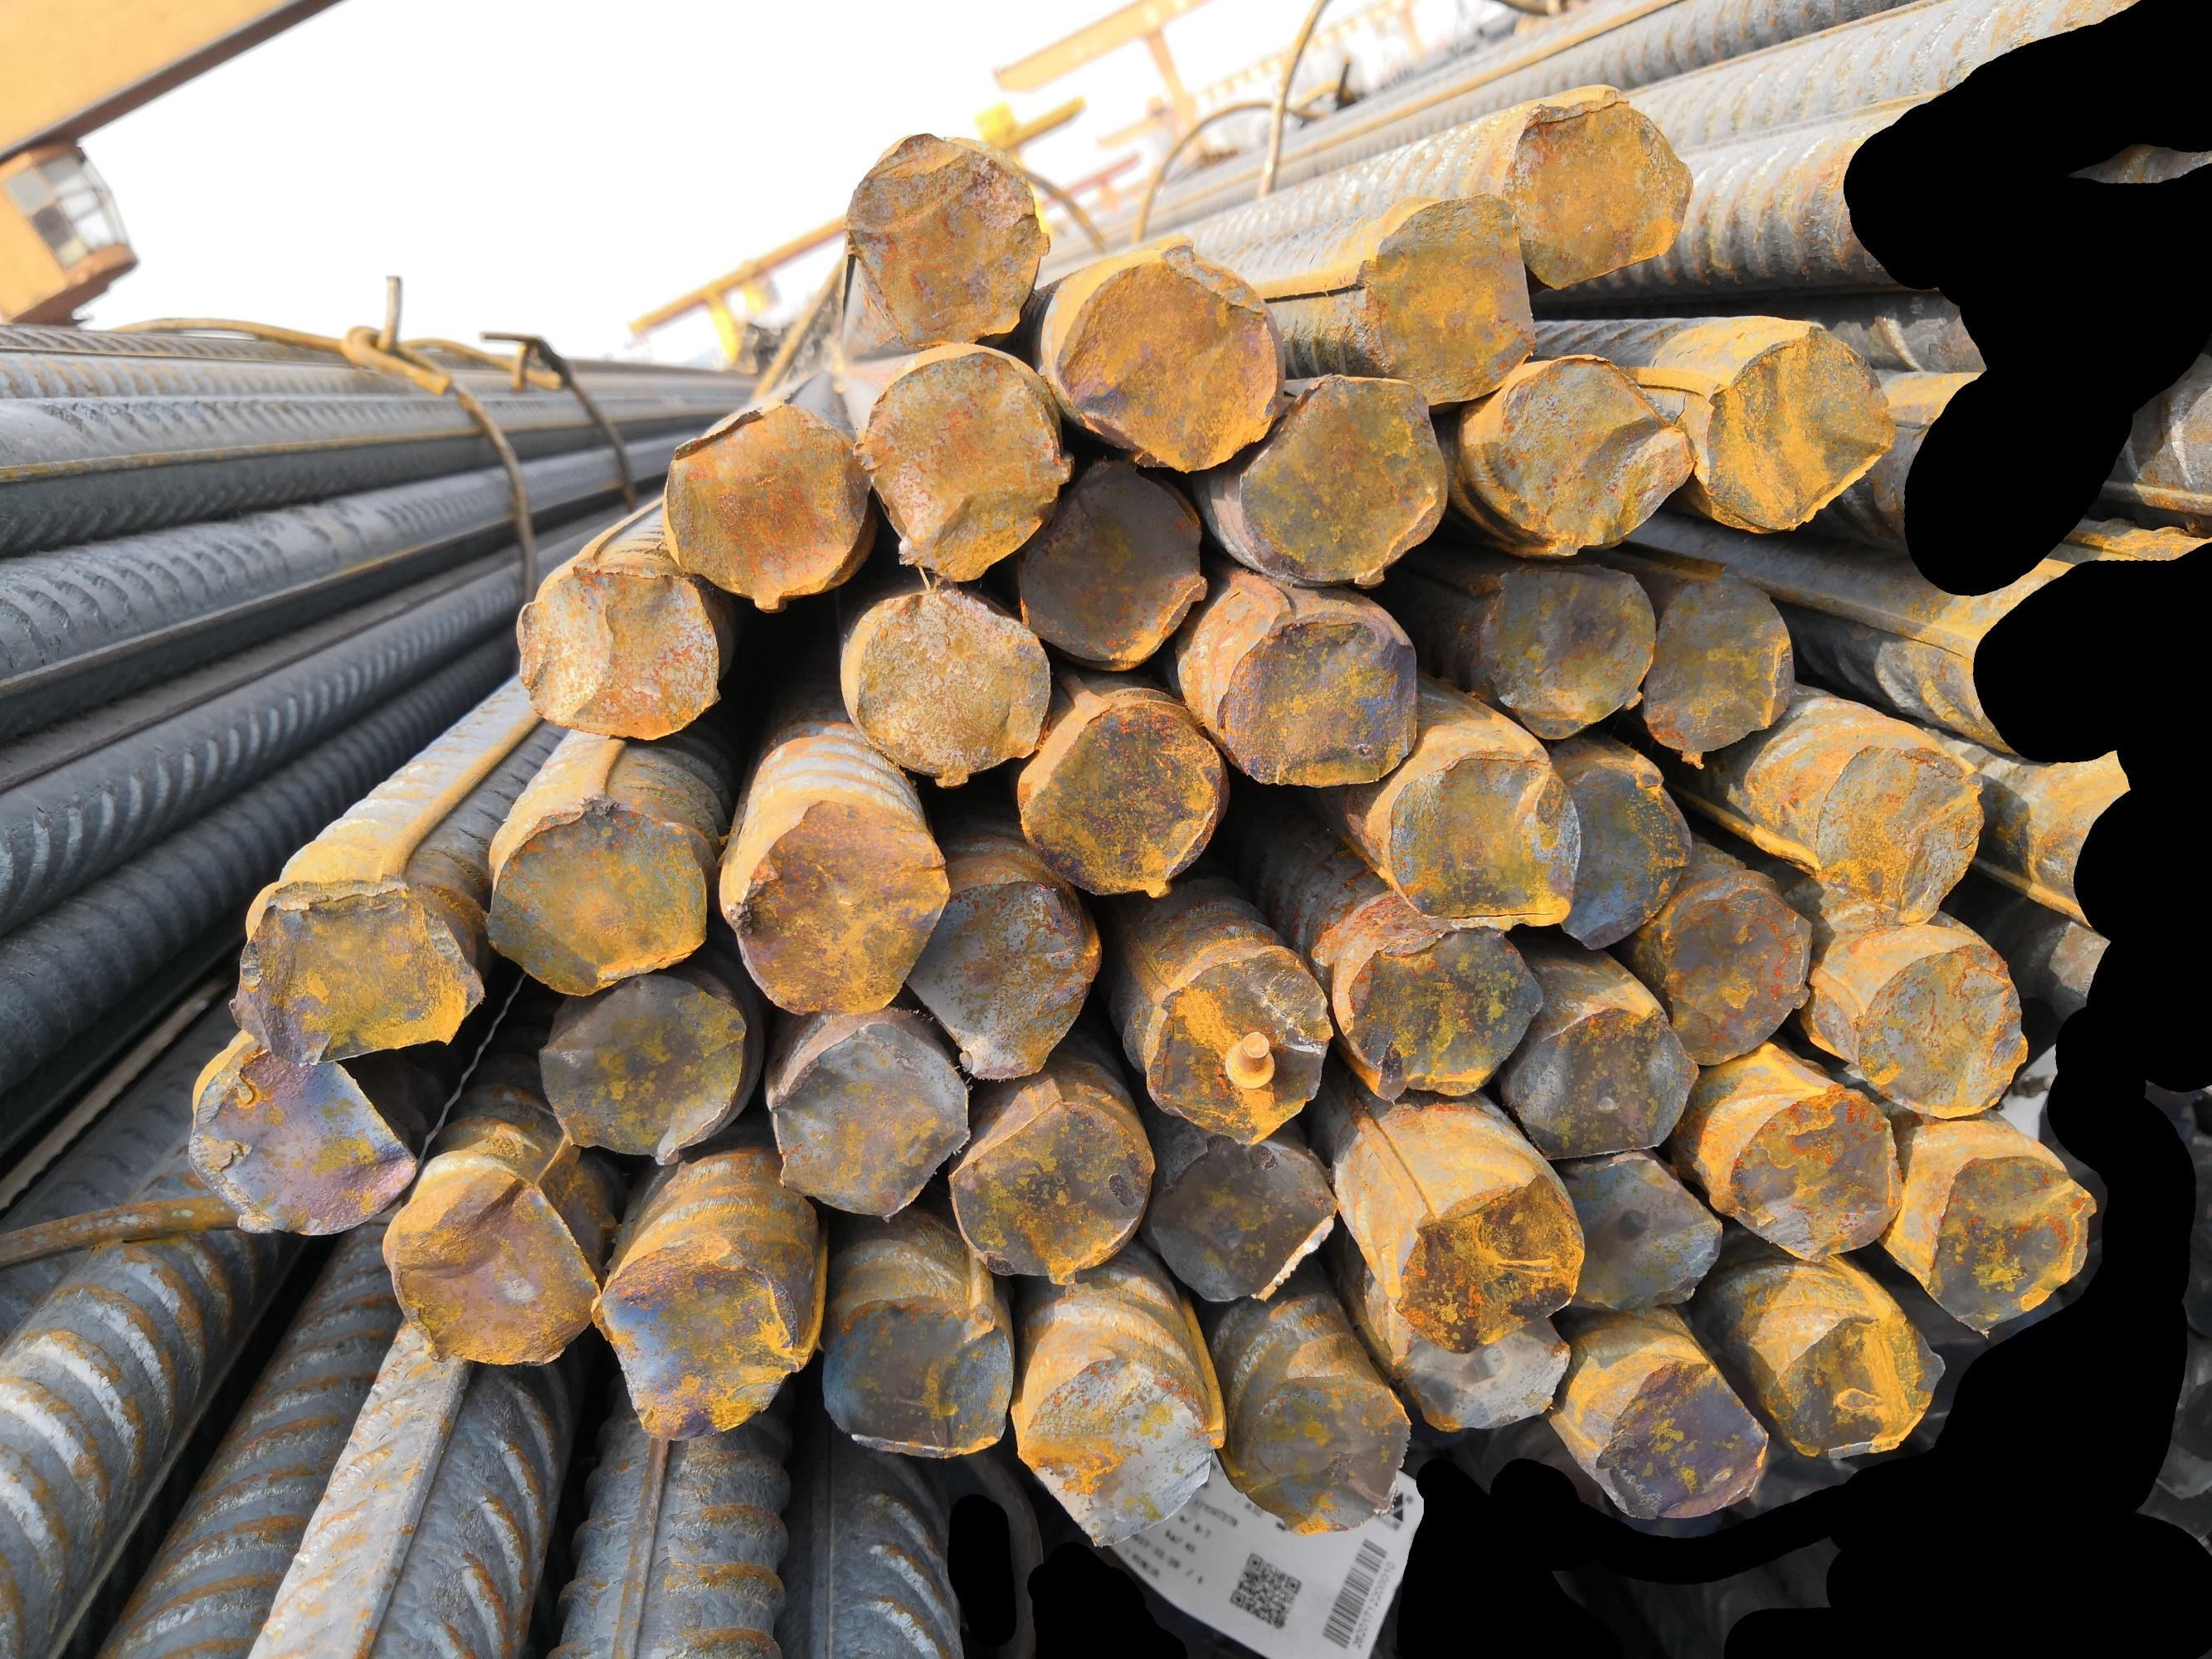bar: (1053, 237, 1290, 477), (720, 789, 950, 1021), (858, 345, 1074, 582), (225, 866, 488, 1060), (483, 784, 713, 999), (1232, 366, 1450, 591), (183, 1040, 418, 1243), (655, 396, 870, 617), (842, 125, 1051, 349), (380, 1161, 600, 1371), (1696, 312, 1902, 537), (833, 584, 1056, 789), (589, 1244, 814, 1443), (1018, 694, 1227, 906), (1489, 347, 1698, 559), (1011, 1342, 1227, 1547), (530, 967, 753, 1166), (903, 873, 1103, 1086), (943, 1093, 1156, 1291), (763, 1023, 969, 1223), (1013, 457, 1203, 673), (1501, 82, 1696, 291), (509, 558, 723, 746), (1356, 190, 1539, 406), (1217, 598, 1419, 793), (1381, 739, 1583, 932), (1140, 943, 1332, 1143), (1335, 932, 1548, 1112), (1388, 1166, 1586, 1354), (1806, 735, 1991, 932), (1713, 1079, 1907, 1265), (1921, 1140, 2099, 1342), (1846, 934, 2032, 1124), (1143, 1133, 1342, 1310), (818, 1284, 1018, 1459), (1222, 1358, 1415, 1534), (1644, 877, 1816, 1073), (1471, 561, 1658, 742), (1506, 1000, 1705, 1164), (1644, 556, 1801, 763), (1590, 1349, 1769, 1527), (1766, 1304, 1947, 1464), (1564, 1150, 1727, 1321), (1555, 760, 1696, 957), (1382, 1310, 1572, 1436)
